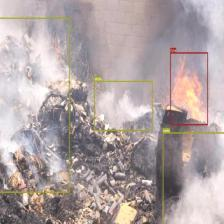fire: (170, 52, 208, 125)
smoke: (0, 17, 70, 193), (162, 132, 224, 224), (94, 80, 152, 131)
